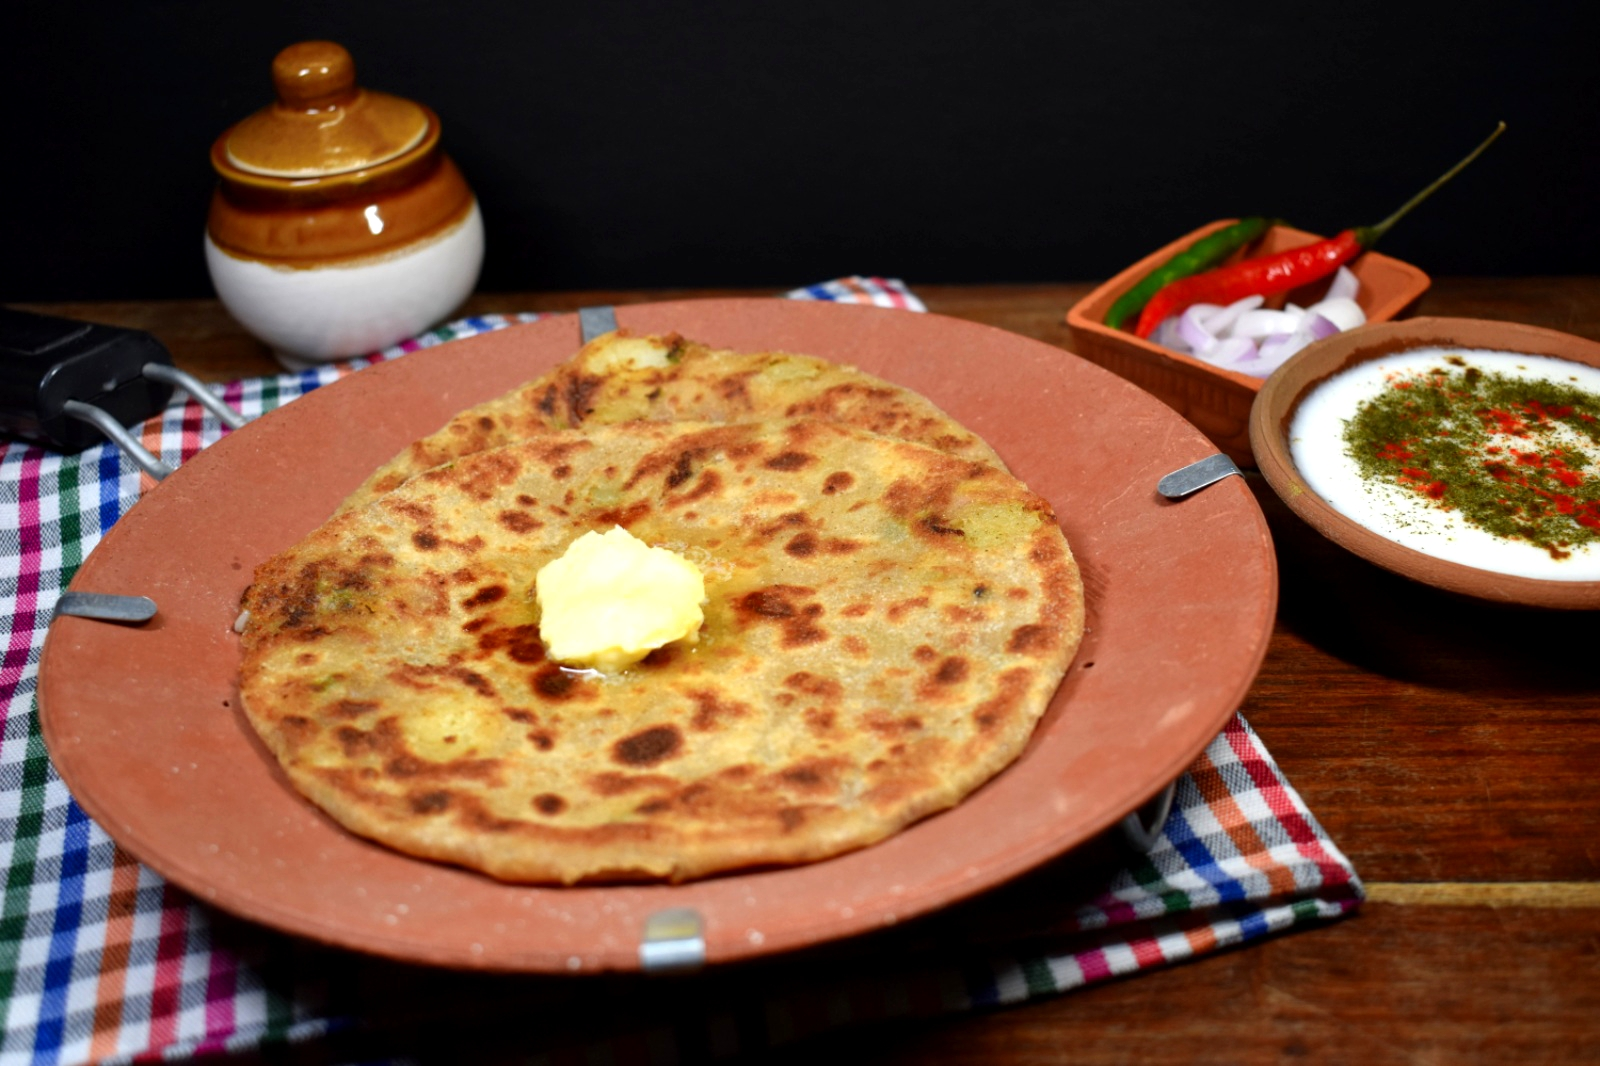aloo_paratha: (230, 328, 1091, 871)
